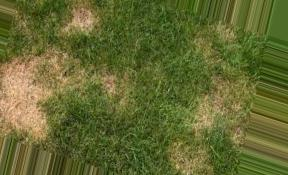patch: (12, 59, 78, 94), (200, 79, 246, 116), (174, 129, 205, 175), (101, 71, 137, 102), (15, 106, 58, 126), (64, 18, 108, 35)
